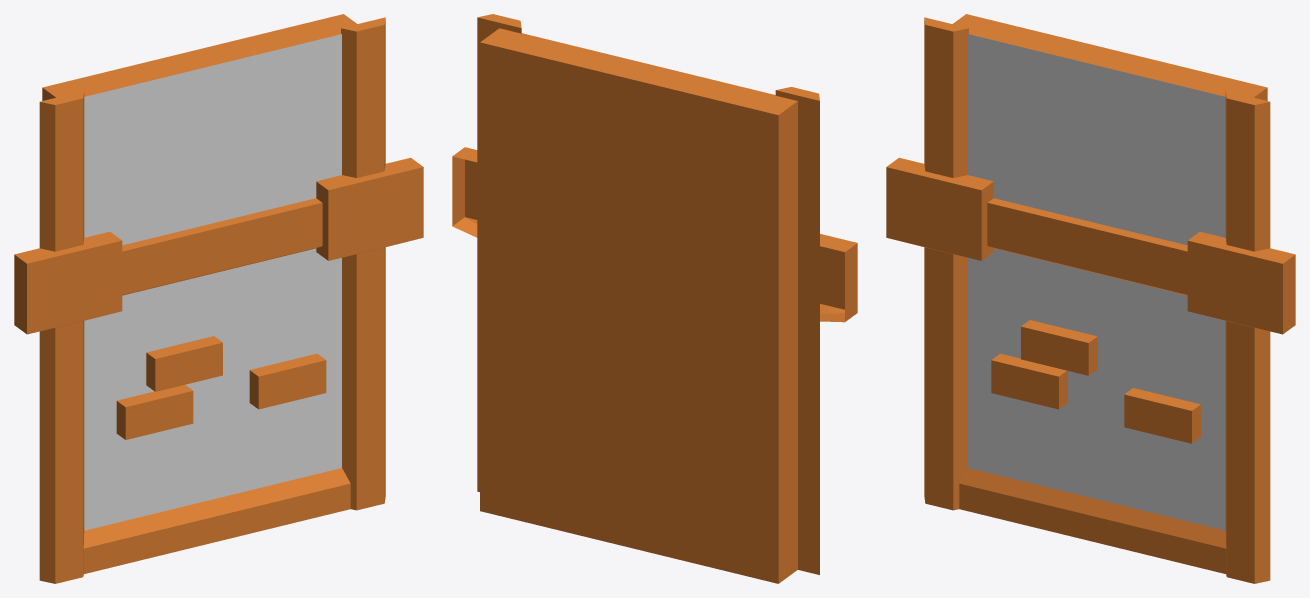
The model's file is wall1.fbx.
3 renders of one model, left to right at view 1: azimuth 30°, elevation 25°; view 2: azimuth 150°, elevation 25°; view 3: azimuth 330°, elevation 25°, orthographic.
Parts seen in each view (by area): view 1: wall; view 2: wall; view 3: wall.
Part boxes in pixels (x1=…): wall: x1=14, y1=14, x2=423, y2=583; wall: x1=452, y1=14, x2=857, y2=583; wall: x1=886, y1=14, x2=1295, y2=583.
Size of the model in its own units: 526 by 607 by 74.33.
